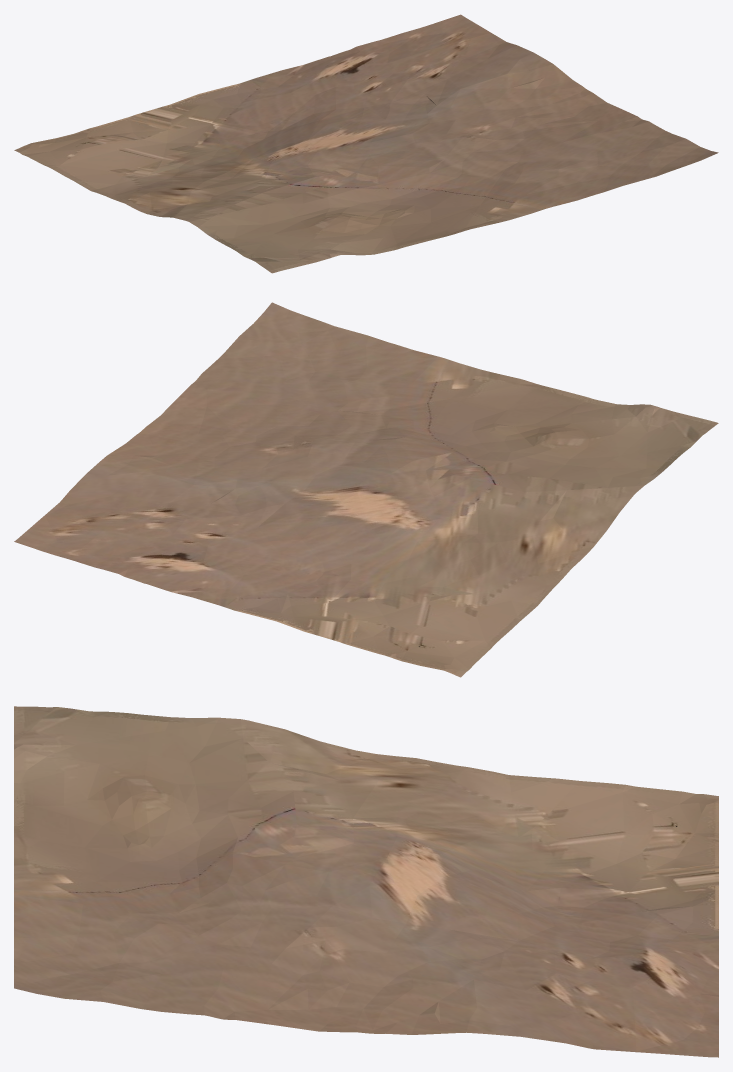
3 views of the same model, one above another, from view 1: azimuth 30°, elevation 25°; view 2: azimuth 150°, elevation 25°; view 3: azimuth 270°, elevation 25° (orthographic). The views are drawn at different scales.
Bounding box in the file's own units: 2.09 × 0.3455 × 2.09.
Materials: 2 (2 with a texture image).
